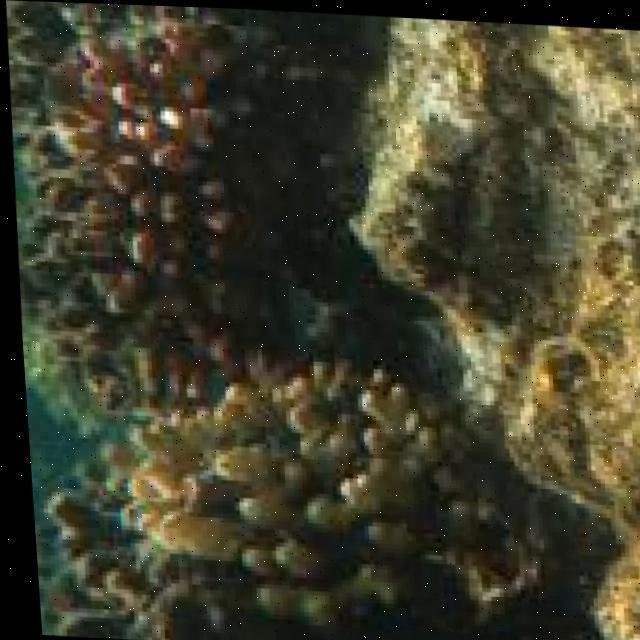Bleached Coral: (129, 383, 472, 574)
Healthy Coral: (27, 0, 215, 247)
